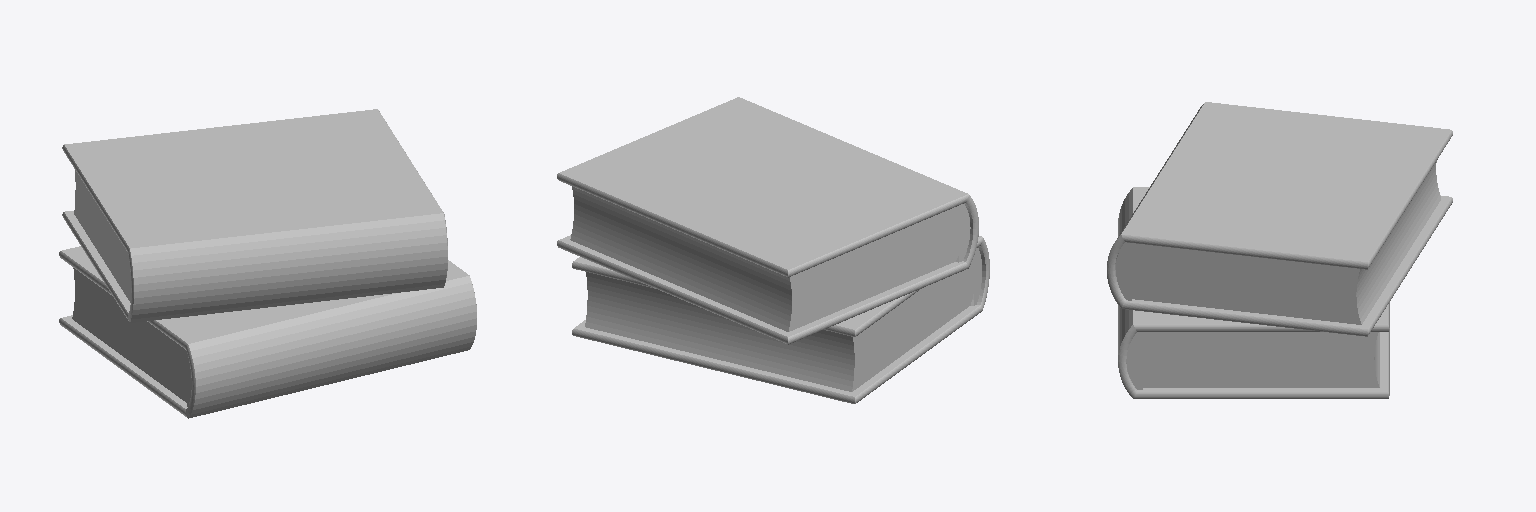
The model's file is book1_inches.obj.
3 renders of one model, left to right at view 1: azimuth 30°, elevation 25°; view 2: azimuth 150°, elevation 25°; view 3: azimuth 270°, elevation 25°, orthographic.
Visible parts, largest first — view 1: Mesh2 book_1_1 Model, Mesh1 book1 Model; view 2: Mesh2 book_1_1 Model, Mesh1 book1 Model; view 3: Mesh2 book_1_1 Model, Mesh1 book1 Model.
Part boxes in pixels (left/top/right/bottom): Mesh2 book_1_1 Model: left=62, top=109, right=447, bottom=322; Mesh1 book1 Model: left=59, top=246, right=476, bottom=418; Mesh2 book_1_1 Model: left=557, top=97, right=978, bottom=344; Mesh1 book1 Model: left=572, top=236, right=989, bottom=403; Mesh2 book_1_1 Model: left=1107, top=102, right=1452, bottom=336; Mesh1 book1 Model: left=1118, top=187, right=1389, bottom=398.
Size of the model in its own units: 14.83 by 6.32 by 13.33.